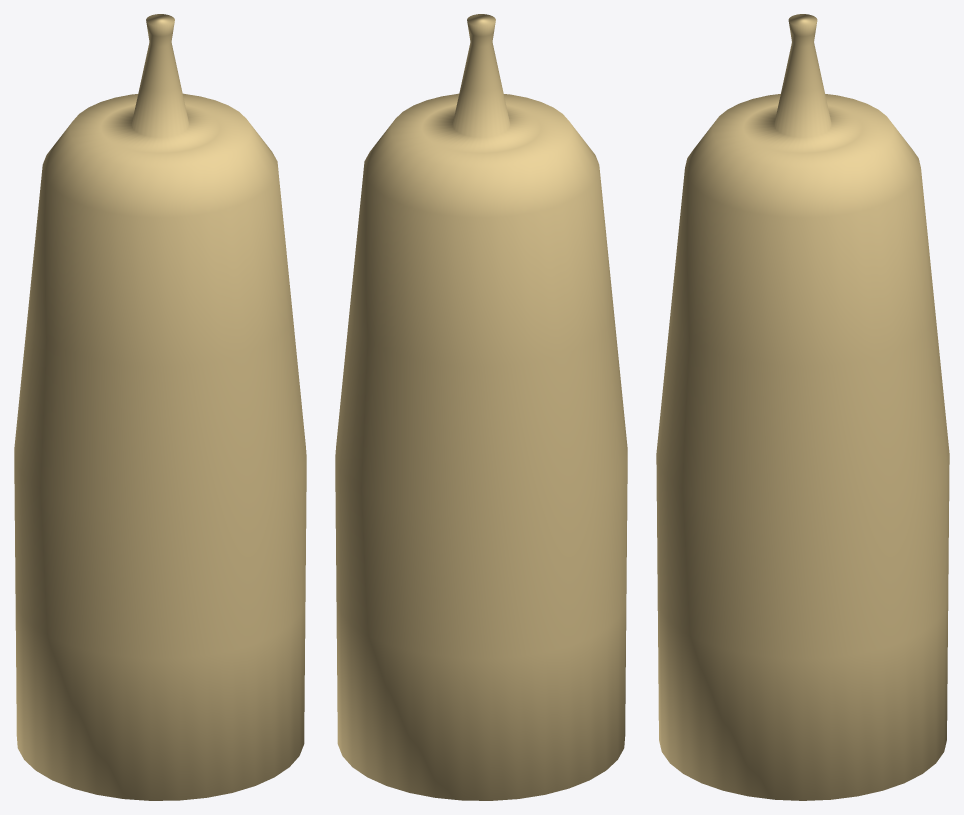
File: mayonnaise.fbx
The picture shows the model from 3 angles, left to right: view 1: azimuth 30°, elevation 25°; view 2: azimuth 150°, elevation 25°; view 3: azimuth 270°, elevation 25°; orthographic projection.
Visible parts, largest first — view 1: Cylinder.007; view 2: Cylinder.007; view 3: Cylinder.007.
Part boxes in pixels (bbox=[...]): Cylinder.007: bbox=[14, 14, 306, 800]; Cylinder.007: bbox=[335, 14, 627, 800]; Cylinder.007: bbox=[656, 14, 949, 800].
Size of the model in its own units: 17.78 by 48.17 by 17.78.
